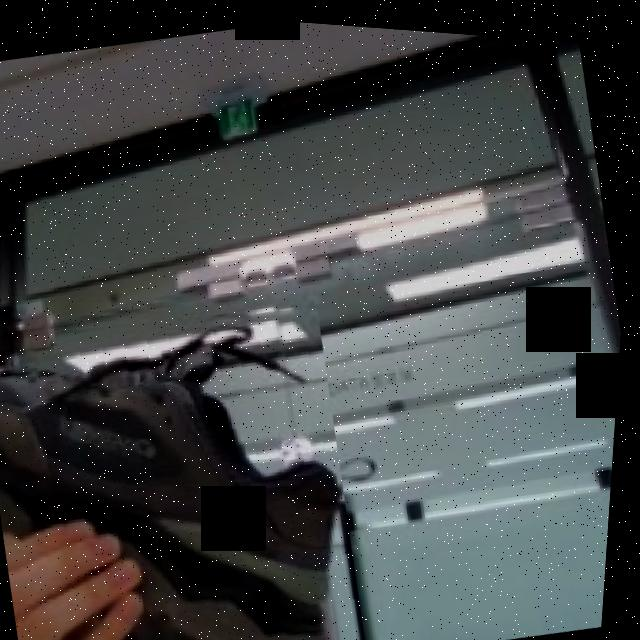shoe: (0, 267, 395, 640)
